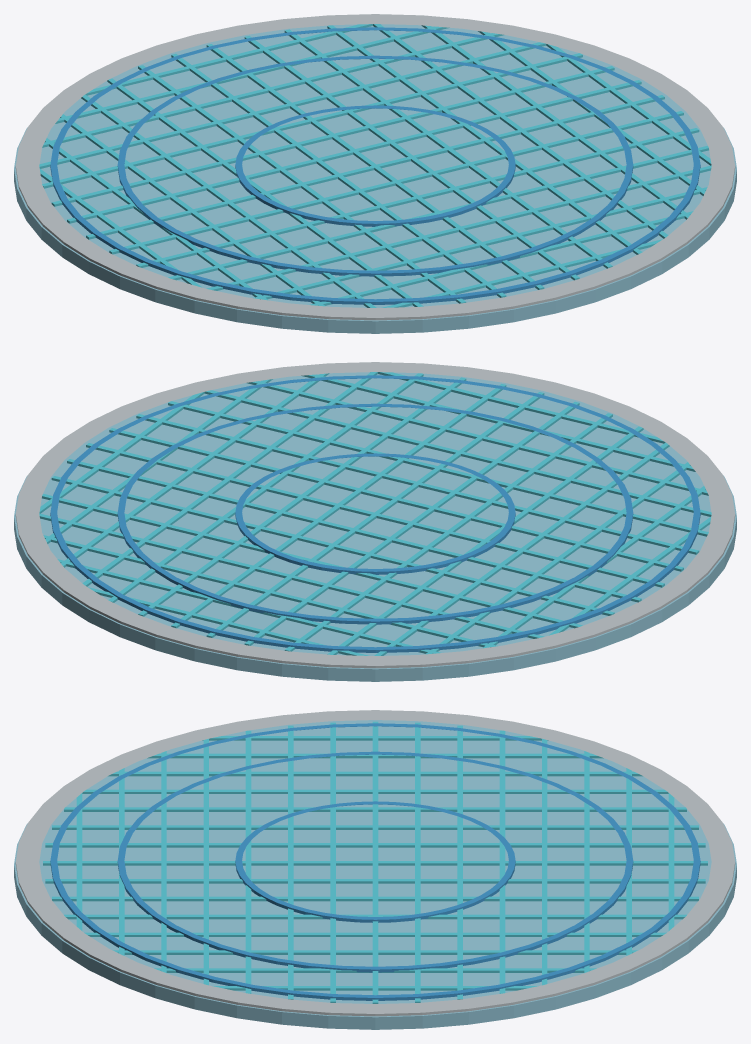
The model's file is 05_L72_PrecisionSiliconWafer.glb.
The picture shows the model from 3 angles, top to bottom: view 1: azimuth 30°, elevation 25°; view 2: azimuth 150°, elevation 25°; view 3: azimuth 270°, elevation 25°; orthographic projection.
Parts seen in each view (by area): view 1: PrecisionSiliconWafer_Part_000, PrecisionSiliconWafer_Part_001, PrecisionSiliconWafer_Part_034, PrecisionSiliconWafer_Part_033, PrecisionSiliconWafer_Part_032, PrecisionSiliconWafer_Part_015, PrecisionSiliconWafer_Part_019, PrecisionSiliconWafer_Part_017, PrecisionSiliconWafer_Part_013, PrecisionSiliconWafer_Part_021, PrecisionSiliconWafer_Part_011, PrecisionSiliconWafer_Part_009 (+23 smaller); view 2: PrecisionSiliconWafer_Part_000, PrecisionSiliconWafer_Part_001, PrecisionSiliconWafer_Part_034, PrecisionSiliconWafer_Part_033, PrecisionSiliconWafer_Part_032, PrecisionSiliconWafer_Part_015, PrecisionSiliconWafer_Part_019, PrecisionSiliconWafer_Part_017, PrecisionSiliconWafer_Part_021, PrecisionSiliconWafer_Part_013, PrecisionSiliconWafer_Part_023, PrecisionSiliconWafer_Part_025 (+23 smaller); view 3: PrecisionSiliconWafer_Part_000, PrecisionSiliconWafer_Part_001, PrecisionSiliconWafer_Part_034, PrecisionSiliconWafer_Part_033, PrecisionSiliconWafer_Part_032, PrecisionSiliconWafer_Part_020, PrecisionSiliconWafer_Part_014, PrecisionSiliconWafer_Part_016, PrecisionSiliconWafer_Part_018, PrecisionSiliconWafer_Part_012, PrecisionSiliconWafer_Part_022, PrecisionSiliconWafer_Part_006 (+23 smaller).
Boxes of the visible parts, box(x1,y1,x2,y2) form: PrecisionSiliconWafer_Part_000: box(14, 24, 736, 333); PrecisionSiliconWafer_Part_001: box(15, 14, 735, 320); PrecisionSiliconWafer_Part_034: box(50, 27, 700, 304); PrecisionSiliconWafer_Part_033: box(117, 55, 633, 276); PrecisionSiliconWafer_Part_032: box(235, 105, 515, 226); PrecisionSiliconWafer_Part_015: box(67, 80, 641, 223); PrecisionSiliconWafer_Part_019: box(109, 111, 683, 254); PrecisionSiliconWafer_Part_017: box(86, 95, 664, 239); PrecisionSiliconWafer_Part_013: box(51, 66, 614, 206); PrecisionSiliconWafer_Part_021: box(136, 128, 699, 267); PrecisionSiliconWafer_Part_011: box(42, 53, 582, 188); PrecisionSiliconWafer_Part_009: box(39, 42, 546, 168); PrecisionSiliconWafer_Part_000: box(14, 372, 736, 681); PrecisionSiliconWafer_Part_001: box(15, 362, 735, 668); PrecisionSiliconWafer_Part_034: box(50, 375, 700, 652); PrecisionSiliconWafer_Part_033: box(117, 403, 633, 624); PrecisionSiliconWafer_Part_032: box(235, 453, 515, 574); PrecisionSiliconWafer_Part_015: box(67, 459, 641, 602); PrecisionSiliconWafer_Part_019: box(109, 428, 683, 571); PrecisionSiliconWafer_Part_017: box(86, 443, 664, 587); PrecisionSiliconWafer_Part_021: box(136, 414, 699, 554); PrecisionSiliconWafer_Part_013: box(51, 476, 614, 615); PrecisionSiliconWafer_Part_023: box(168, 401, 708, 536); PrecisionSiliconWafer_Part_025: box(204, 390, 711, 516); PrecisionSiliconWafer_Part_000: box(14, 720, 736, 1029); PrecisionSiliconWafer_Part_001: box(15, 710, 735, 1016); PrecisionSiliconWafer_Part_034: box(50, 723, 700, 1000); PrecisionSiliconWafer_Part_033: box(117, 751, 633, 972); PrecisionSiliconWafer_Part_032: box(235, 801, 515, 922); PrecisionSiliconWafer_Part_020: box(52, 896, 698, 901); PrecisionSiliconWafer_Part_014: box(45, 843, 705, 847); PrecisionSiliconWafer_Part_016: box(43, 861, 707, 865); PrecisionSiliconWafer_Part_018: box(45, 879, 705, 883); PrecisionSiliconWafer_Part_012: box(52, 825, 698, 829); PrecisionSiliconWafer_Part_022: box(64, 914, 686, 919); PrecisionSiliconWafer_Part_006: box(108, 771, 642, 776).
Bounding box in the file's own units: 1.29 × 0.0325 × 1.29.
